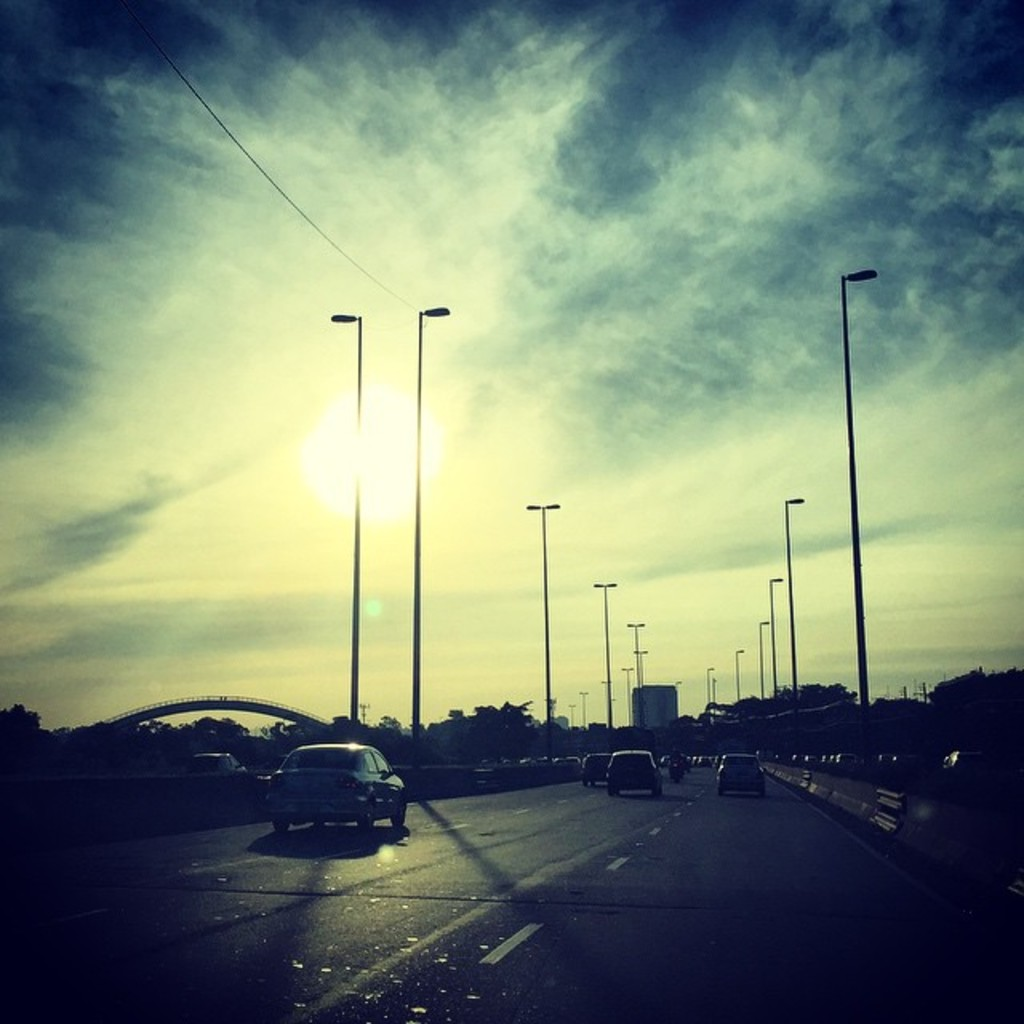Car: (254, 740, 422, 851), (707, 739, 763, 798), (590, 745, 654, 788), (182, 745, 244, 766), (580, 748, 608, 784)
